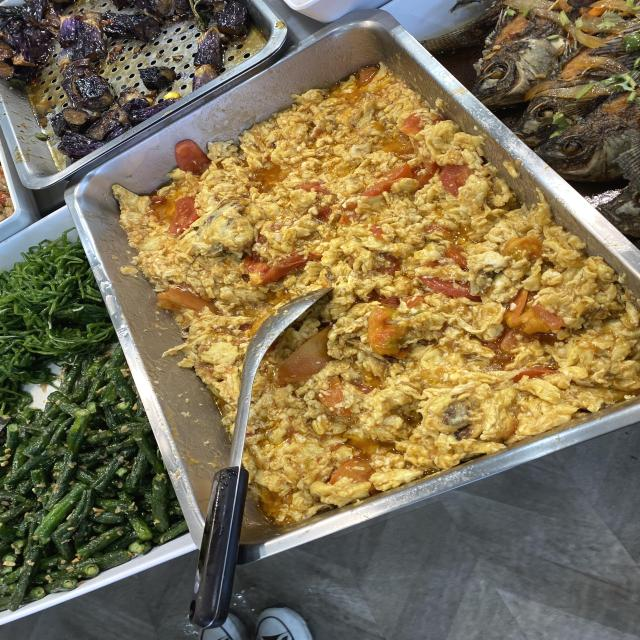Scramble Egg with Tomatoes: (191, 142, 472, 289)
